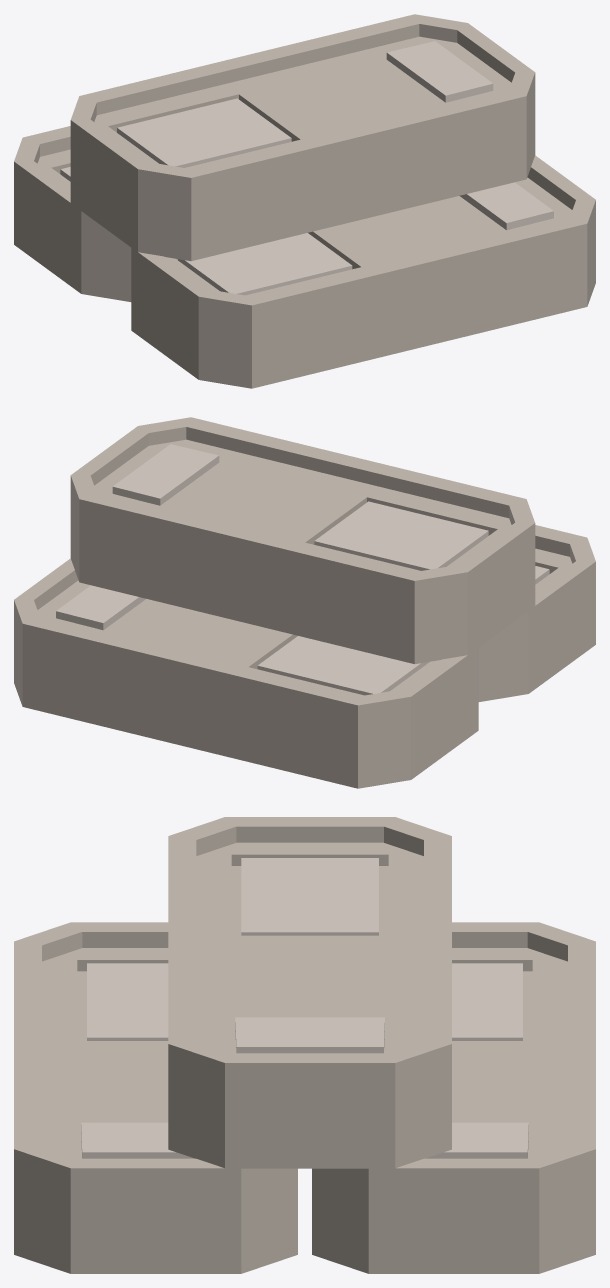
File: SM_Platinum_ingots.glb
The picture shows the model from 3 angles, top to bottom: view 1: azimuth 30°, elevation 25°; view 2: azimuth 150°, elevation 25°; view 3: azimuth 270°, elevation 25°; orthographic projection. The views are drawn at different scales.
Visible parts, largest first — view 1: SM_Platinum_ingots; view 2: SM_Platinum_ingots; view 3: SM_Platinum_ingots.
Boxes of the visible parts, <box> form: SM_Platinum_ingots: <box>14,14,595,388</box>; SM_Platinum_ingots: <box>14,417,595,788</box>; SM_Platinum_ingots: <box>14,817,595,1273</box>.
Bounding box in the file's own units: 0.5 × 0.2 × 0.5.
Materials: 1 (1 with a texture image).
